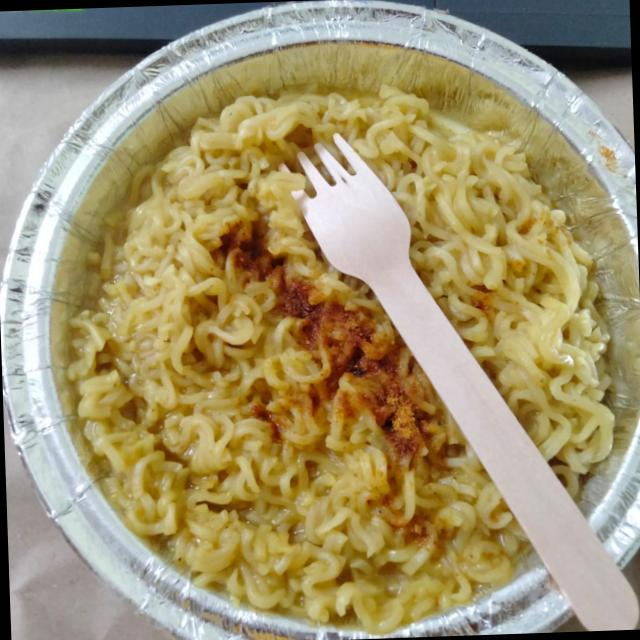Others: (45, 8, 638, 572)
